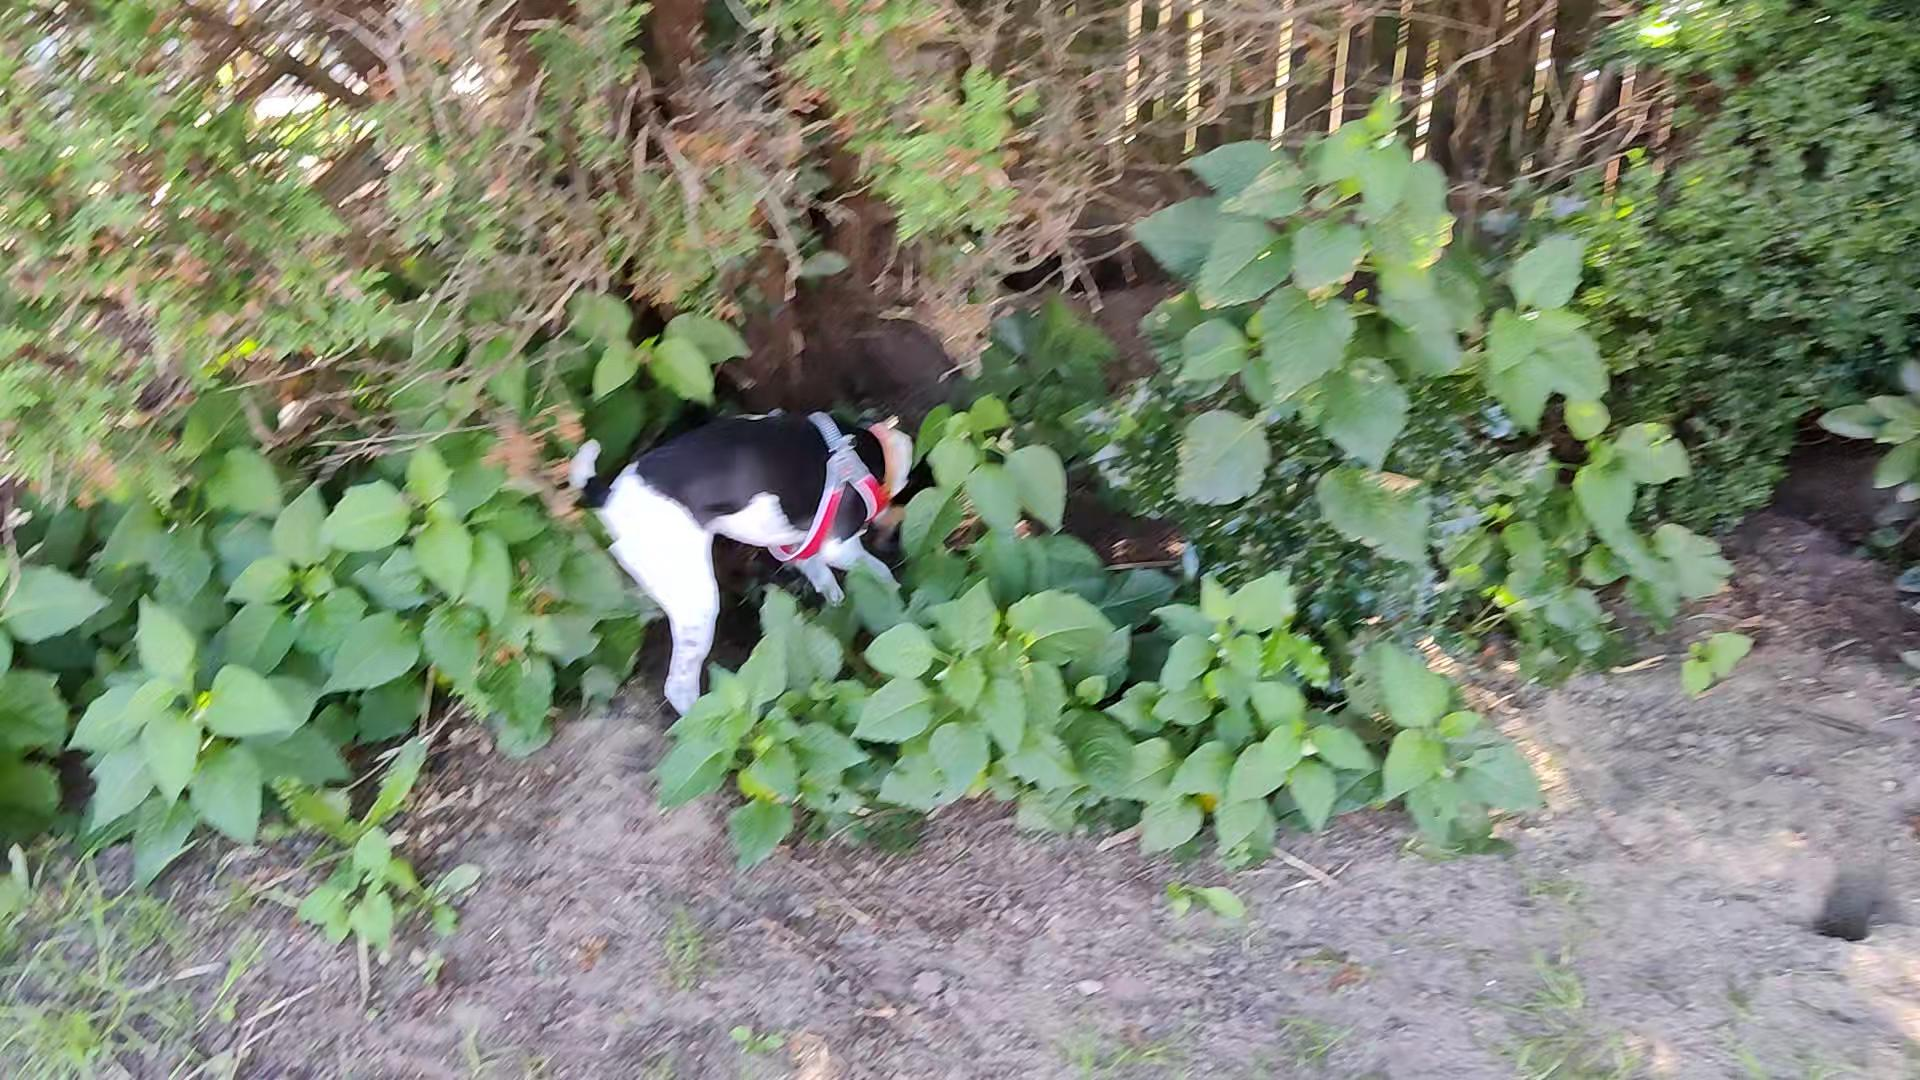Dog: (535, 406, 942, 721)
